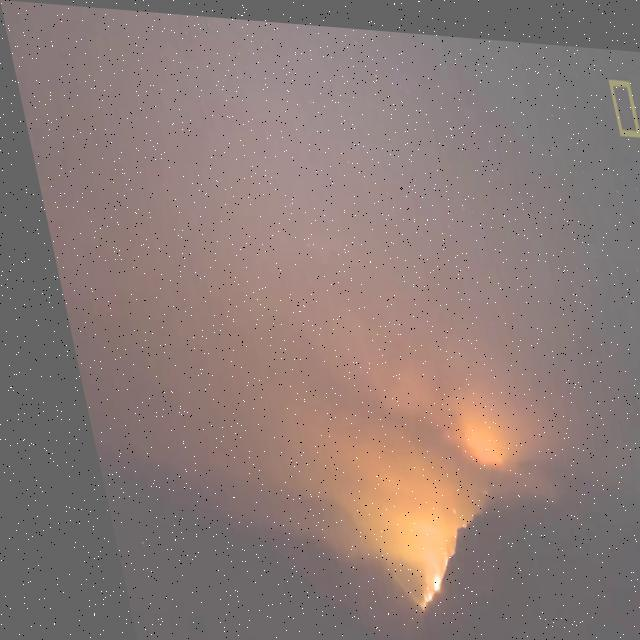Fire: (382, 548, 433, 604)
